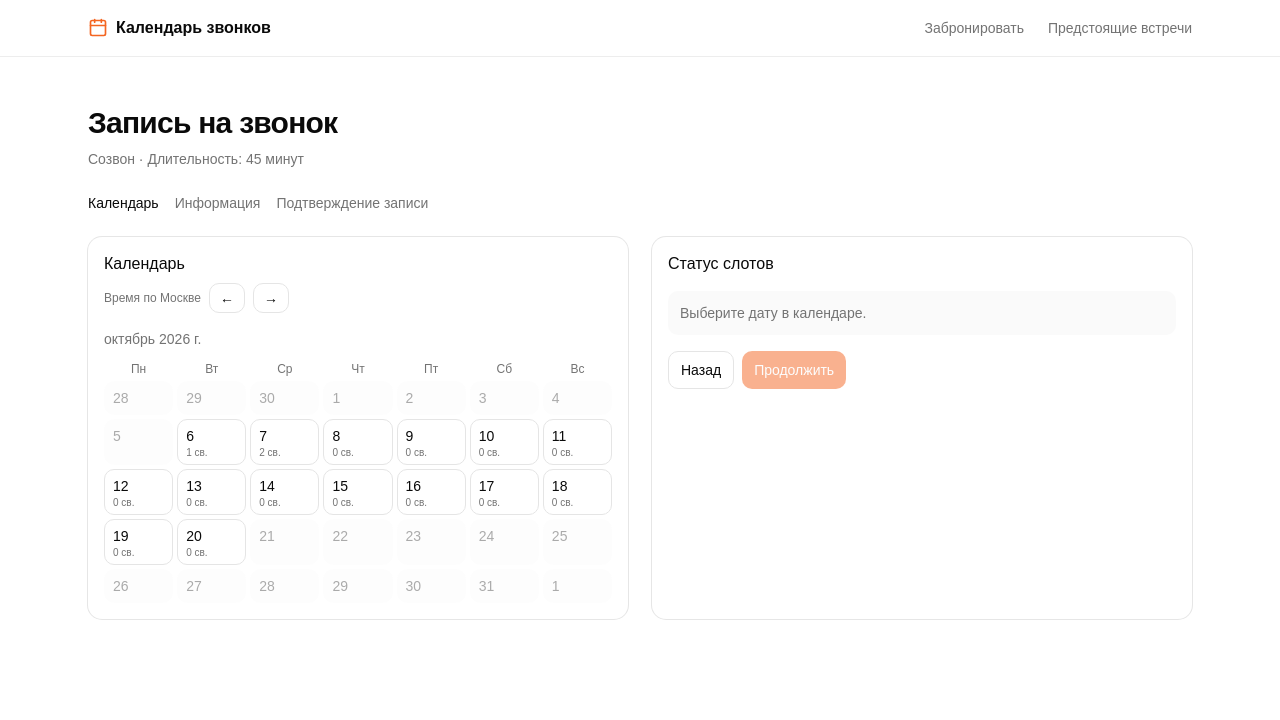
it: §5: клик по дате окна показывает слоты этой даты
This screenshot has width=1280, height=720.
Expected: the text "Выберите дату в календаре." is shown, [668,291,1176,335]
Click the button with aria-label "7 октября 2026" at point(285, 442), box [250,419,319,465]
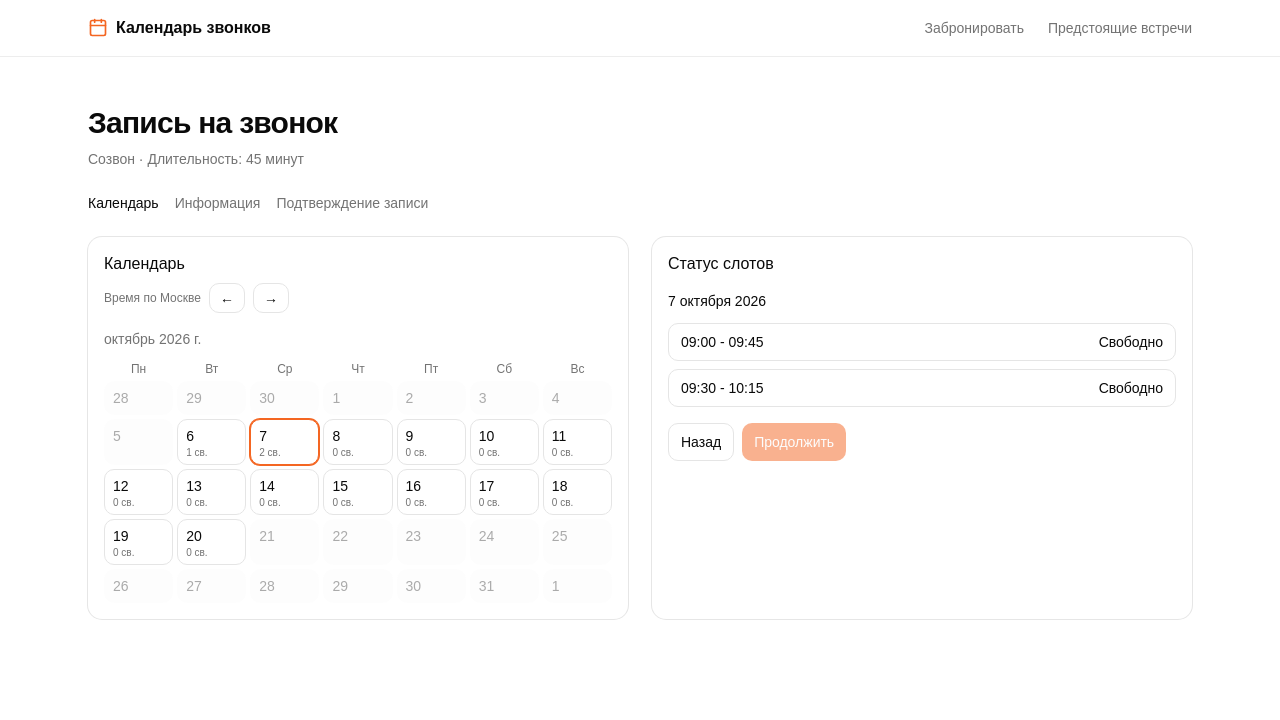
Result: the text "09:00 - 09:45" is shown at [681,332,764,352]
Result: the text "09:30 - 10:15" is shown at [681,378,764,398]
Result: the text "Выберите дату в календаре." is gone
